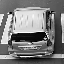motor: (13, 6, 49, 57)
